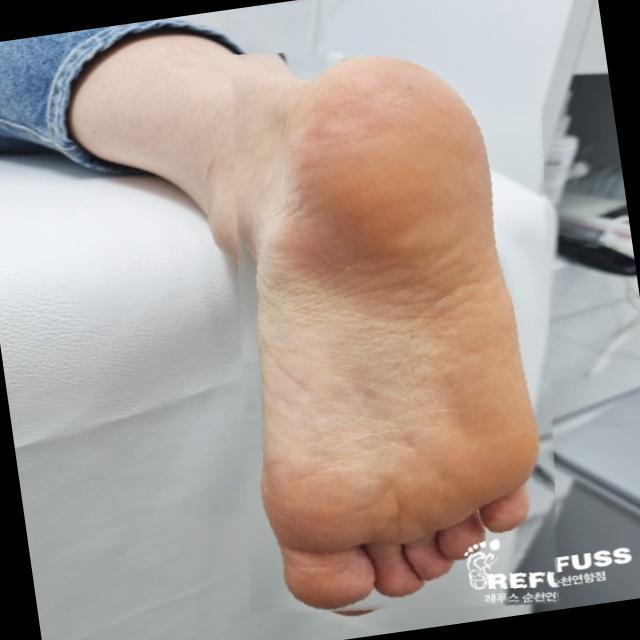No_Shoes: (239, 74, 541, 608)
